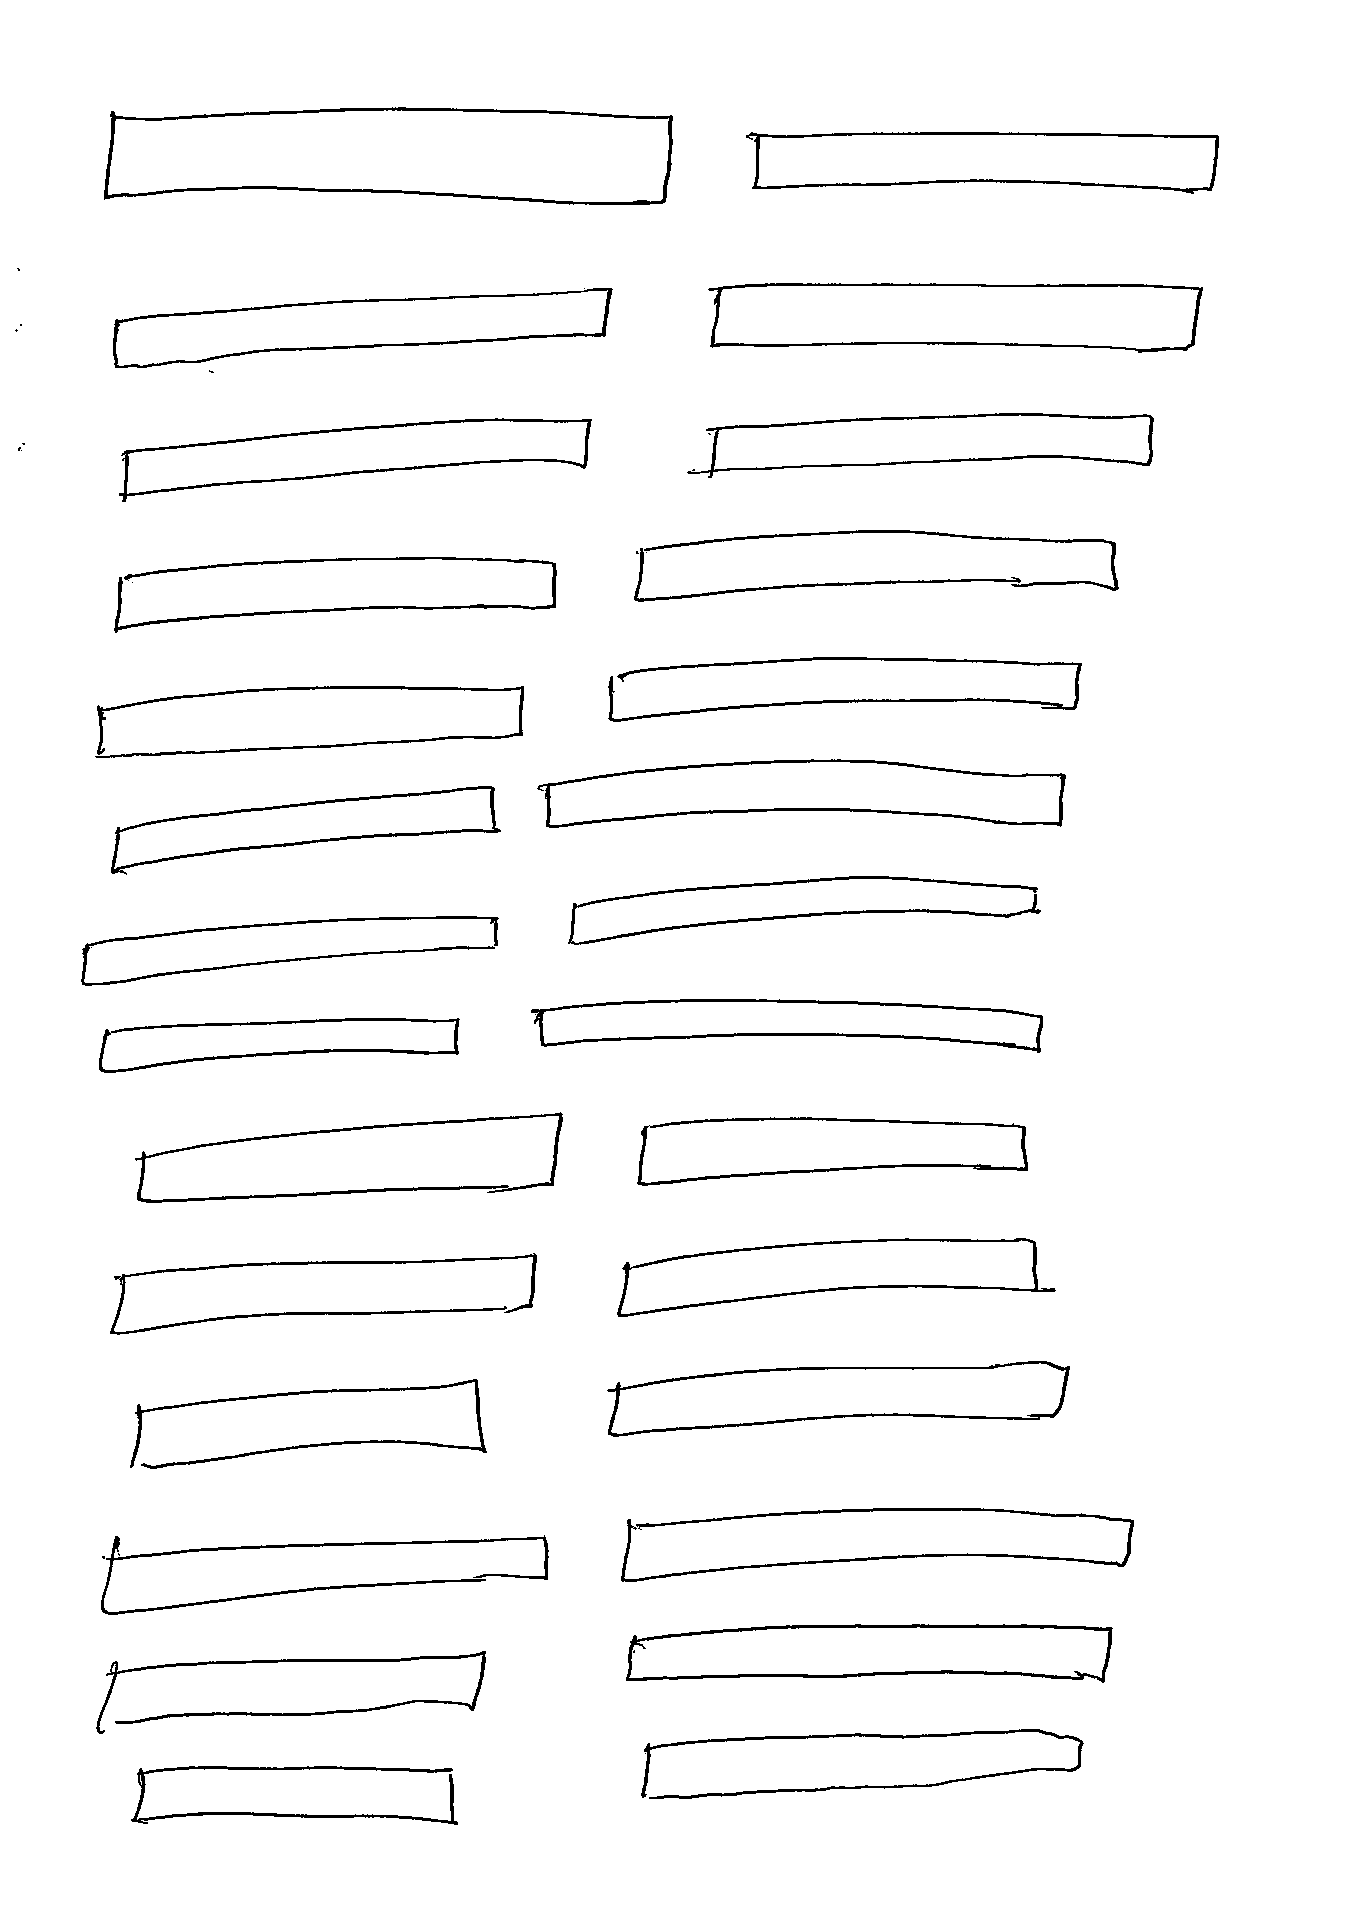Textbox: (102, 106, 676, 208), (109, 284, 614, 371), (619, 1504, 1137, 1584), (135, 1110, 565, 1205), (118, 415, 591, 498), (605, 1357, 1072, 1439), (98, 1533, 551, 1616), (633, 528, 1121, 605), (544, 757, 1066, 828), (106, 1252, 538, 1337), (111, 554, 559, 634), (566, 872, 1039, 948), (710, 281, 1202, 353), (616, 1235, 1042, 1317), (109, 784, 497, 874), (640, 1727, 1084, 1802), (129, 1377, 486, 1470), (95, 685, 525, 761), (96, 1650, 486, 1734), (80, 912, 501, 988), (608, 656, 1084, 723), (625, 1623, 1116, 1686), (707, 411, 1155, 478), (750, 130, 1221, 192), (537, 998, 1045, 1054), (636, 1115, 1027, 1187), (129, 1764, 455, 1828), (98, 1017, 460, 1073)
